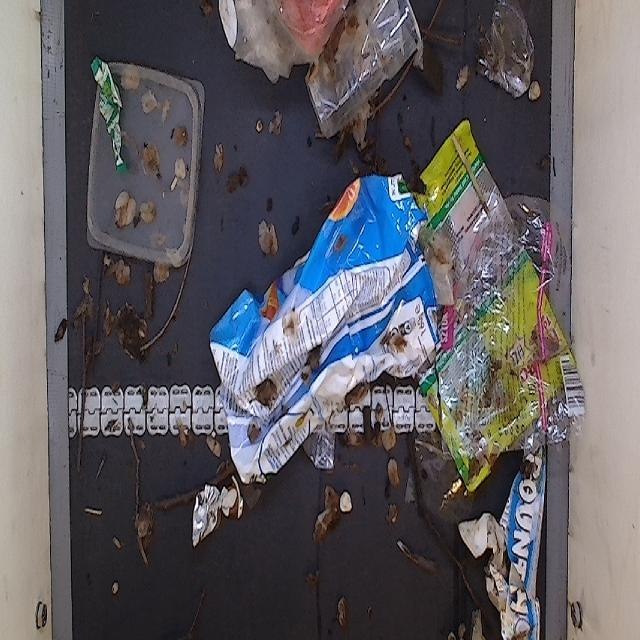food_wrapping: (368, 138, 582, 494), (215, 184, 437, 478), (496, 453, 542, 640), (91, 60, 131, 184)
plastic_cups: (309, 0, 418, 129)
plastic_films: (458, 212, 581, 474), (222, 0, 336, 71), (481, 3, 549, 113)
undef_hard_plastic: (86, 49, 213, 274)
